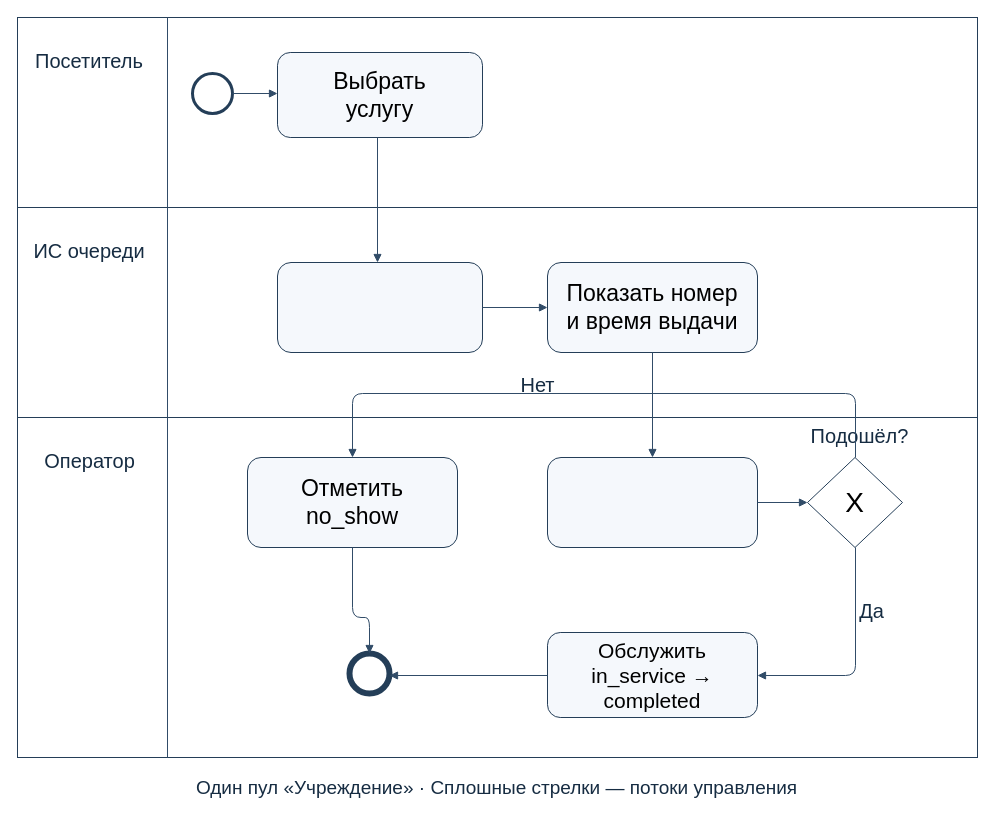
Some shapes in this 995 by 818 pixel diagram are drawn without their labels. Here are the shapes that lost their labels. From the top down, the centre of each, then its label:
At (x=379, y=307): "Зарегистрировать талон waiting".
At (x=652, y=502): "Вызвать следующего ждать до 2 мин".
